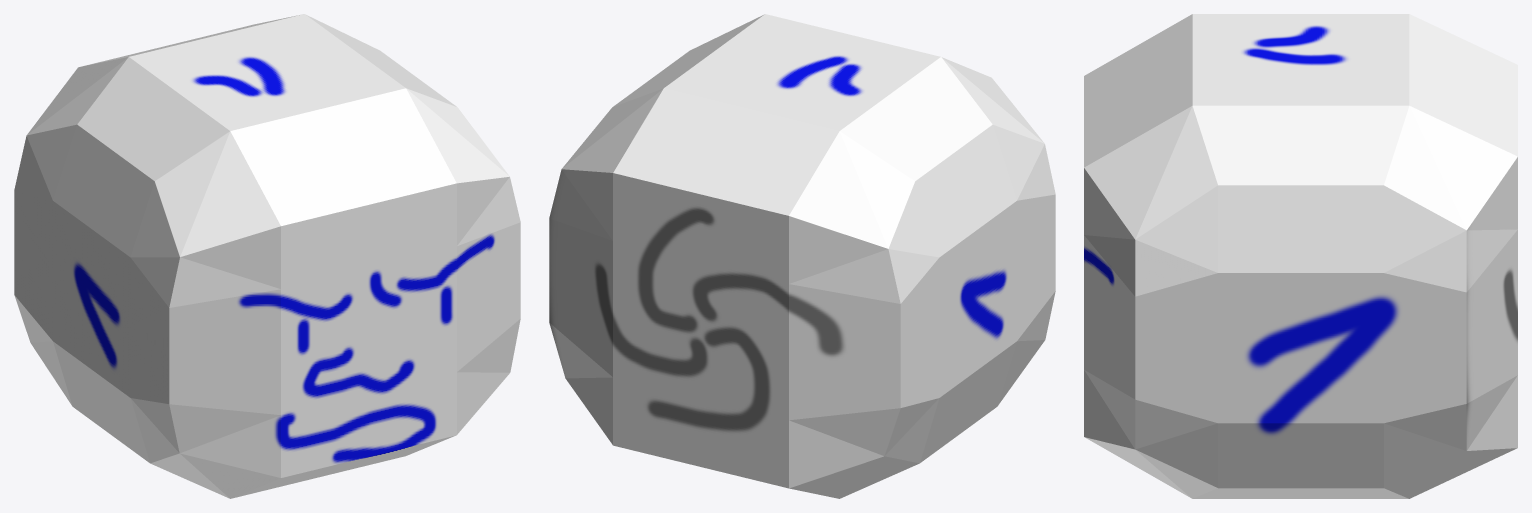
File: TestPlayerver_head.obj
3 renders of one model, left to right at view 1: azimuth 30°, elevation 25°; view 2: azimuth 150°, elevation 25°; view 3: azimuth 270°, elevation 25°, orthographic. The views are drawn at different scales.
Visible parts, largest first — view 1: C_Head; view 2: C_Head; view 3: C_Head.
Part boxes in pixels (bbox=[...]): C_Head: bbox=[14, 14, 520, 498]; C_Head: bbox=[549, 14, 1055, 498]; C_Head: bbox=[1084, 14, 1517, 498].
Bounding box in the file's own units: 2 × 2 × 2.
1 material, 1 textured.
